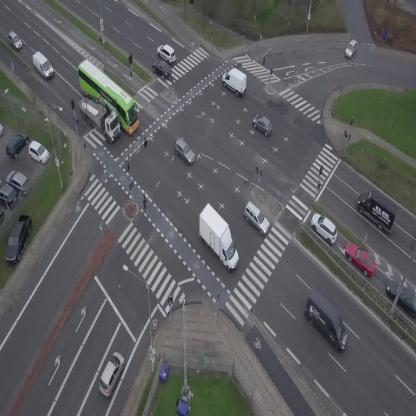bicycle: (140, 196, 150, 214)
bus: (66, 58, 149, 135)
car: (340, 237, 382, 281), (94, 350, 129, 399), (238, 199, 275, 237), (306, 209, 343, 247), (169, 137, 199, 166), (248, 111, 277, 138), (148, 57, 175, 84), (153, 41, 180, 66), (3, 29, 24, 53), (343, 38, 360, 59)
lorry: (186, 201, 252, 275), (293, 286, 359, 354), (71, 89, 129, 144), (349, 185, 405, 237), (217, 63, 252, 98), (28, 50, 57, 80)
